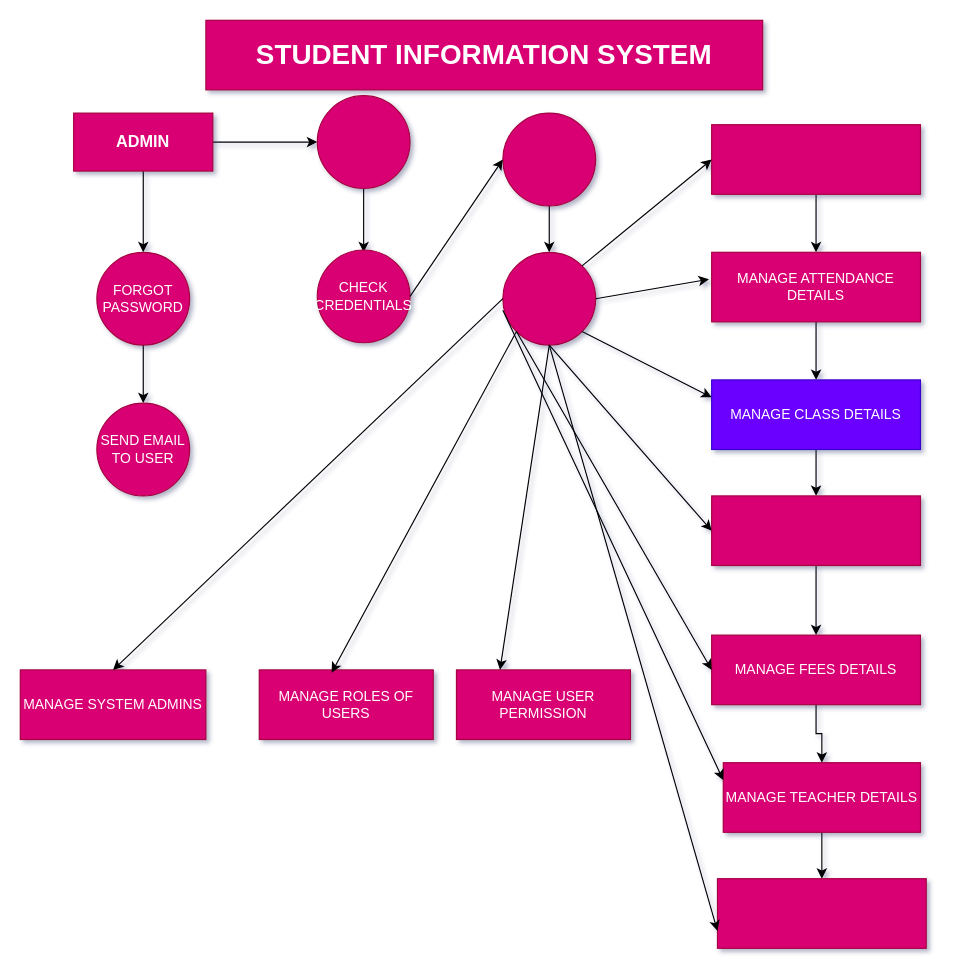
Some shapes in this 954 by 976 pixel diagram are drawn without their labels. The box of each missing label's shape, as (x1, y1, x2, y2) in pixels:
CHECK: (502, 112, 596, 206)
LOGIN TO SYSTEN: (316, 95, 410, 188)
MANAGE MODULES: (502, 251, 596, 345)
MANAGE REPORT: (716, 878, 926, 948)
MANAGE STUDENT DETAILS: (710, 495, 920, 566)
MANAGE TIMETABLE DETAILS: (710, 124, 920, 194)
